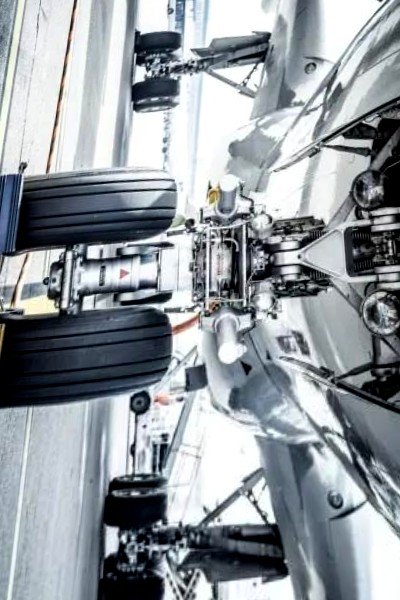chock: (0, 171, 29, 255), (95, 577, 110, 600), (131, 28, 143, 55)
wheel: (0, 303, 173, 417), (0, 159, 179, 259), (105, 475, 170, 532), (99, 548, 168, 600), (104, 549, 164, 581), (132, 78, 182, 115), (134, 29, 183, 64), (109, 472, 167, 497), (117, 290, 175, 309), (135, 47, 180, 71), (121, 240, 176, 258), (134, 95, 180, 116), (130, 391, 152, 416)
